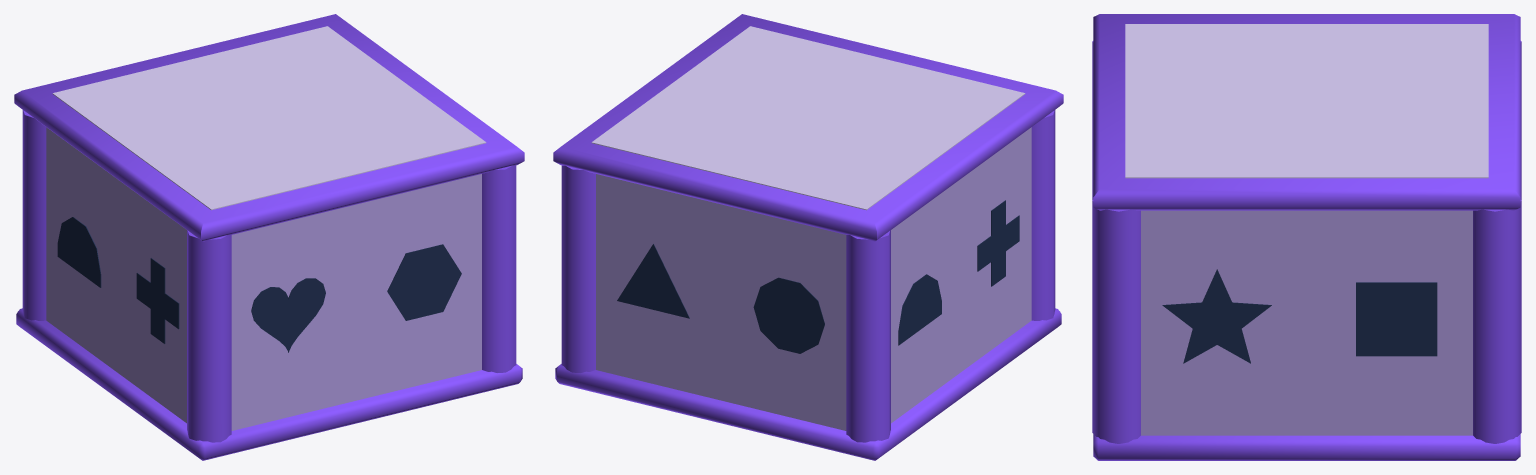
Rendered from toy_shape_cube_lod1.glb.
The picture shows the model from 3 angles, left to right: view 1: azimuth 30°, elevation 25°; view 2: azimuth 150°, elevation 25°; view 3: azimuth 270°, elevation 25°; orthographic projection. The views are drawn at different scales.
Visible parts, largest first — view 1: toy_shape_cube_LOD1; view 2: toy_shape_cube_LOD1; view 3: toy_shape_cube_LOD1.
Part boxes in pixels (x1,y1,x2,y2): toy_shape_cube_LOD1: (14,14,524,460); toy_shape_cube_LOD1: (553,14,1063,460); toy_shape_cube_LOD1: (1092,14,1521,460).
Size of the model in its own units: 10.04 by 7.03 by 10.04.
Materials: 1 (1 with a texture image).
